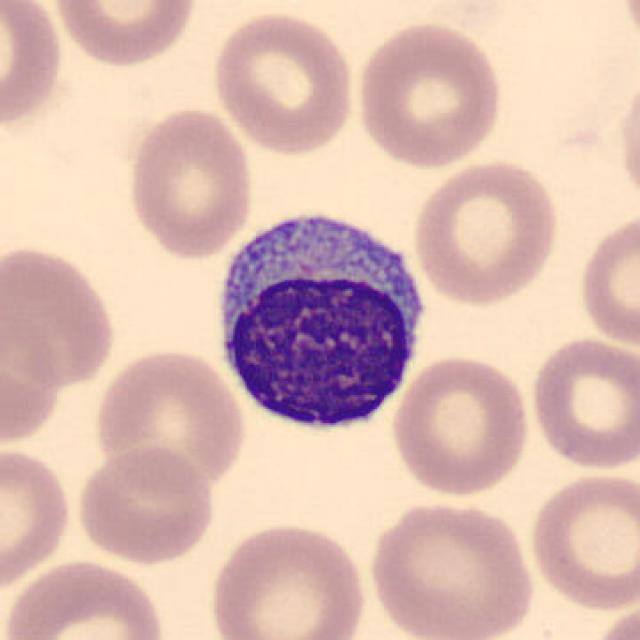Lymphocyte: (206, 197, 432, 441)
RBC: (362, 497, 538, 640), (352, 16, 507, 171), (409, 155, 563, 309), (91, 344, 249, 494), (208, 7, 359, 159), (388, 351, 535, 499), (122, 104, 258, 263), (205, 518, 372, 640), (71, 442, 221, 568), (0, 240, 121, 390), (526, 469, 638, 612), (526, 333, 638, 473), (0, 555, 171, 640), (0, 443, 75, 594), (48, 0, 201, 71), (574, 206, 640, 353), (0, 0, 67, 139), (611, 63, 640, 216), (586, 597, 638, 640)
